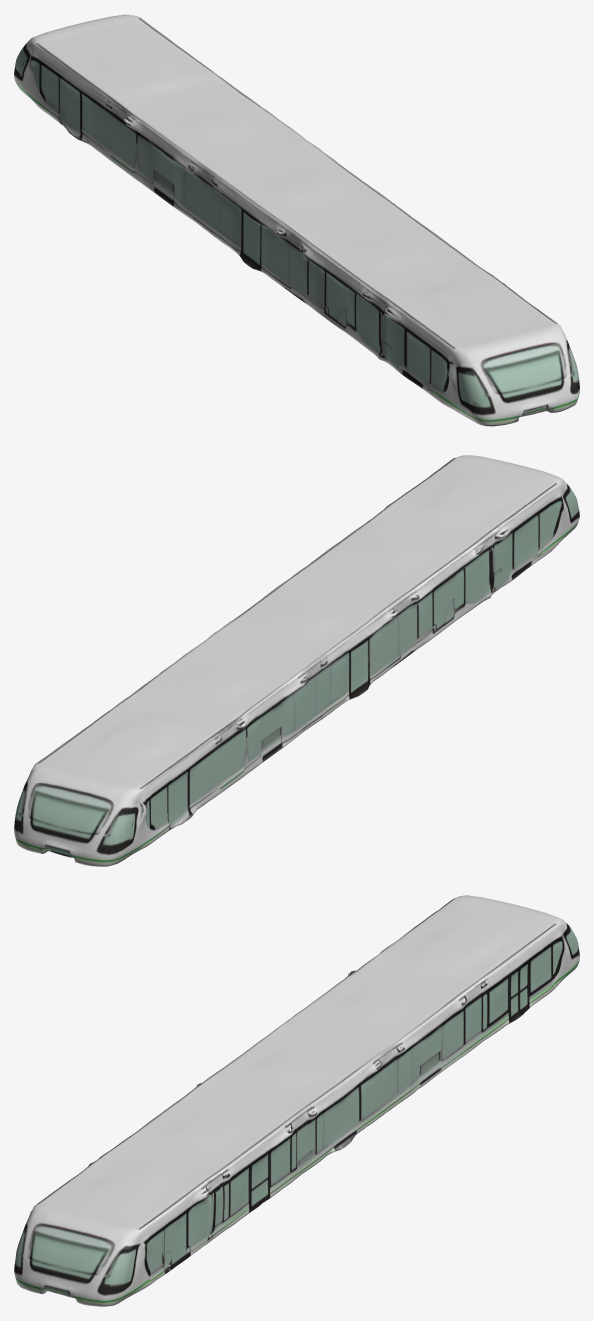
The model's file is Tranvia.fbx.
The picture shows the model from 3 angles, top to bottom: view 1: azimuth 30°, elevation 25°; view 2: azimuth 150°, elevation 25°; view 3: azimuth 330°, elevation 25°; orthographic projection.
Visible parts, largest first — view 1: tripo_node_65d3924d; view 2: tripo_node_65d3924d; view 3: tripo_node_65d3924d.
Part boxes in pixels (x1=…): tripo_node_65d3924d: x1=14, y1=14, x2=579, y2=426; tripo_node_65d3924d: x1=14, y1=455, x2=579, y2=866; tripo_node_65d3924d: x1=14, y1=895, x2=579, y2=1306.
Size of the model in its own units: 0.1452 by 0.0785 by 0.9998.
1 material, 1 textured.
